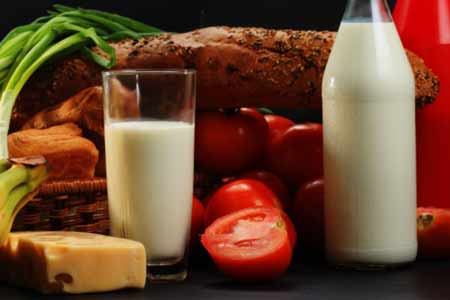glass of milk: (320, 19, 419, 265), (101, 69, 191, 274)
slice of bread: (90, 34, 331, 103)
